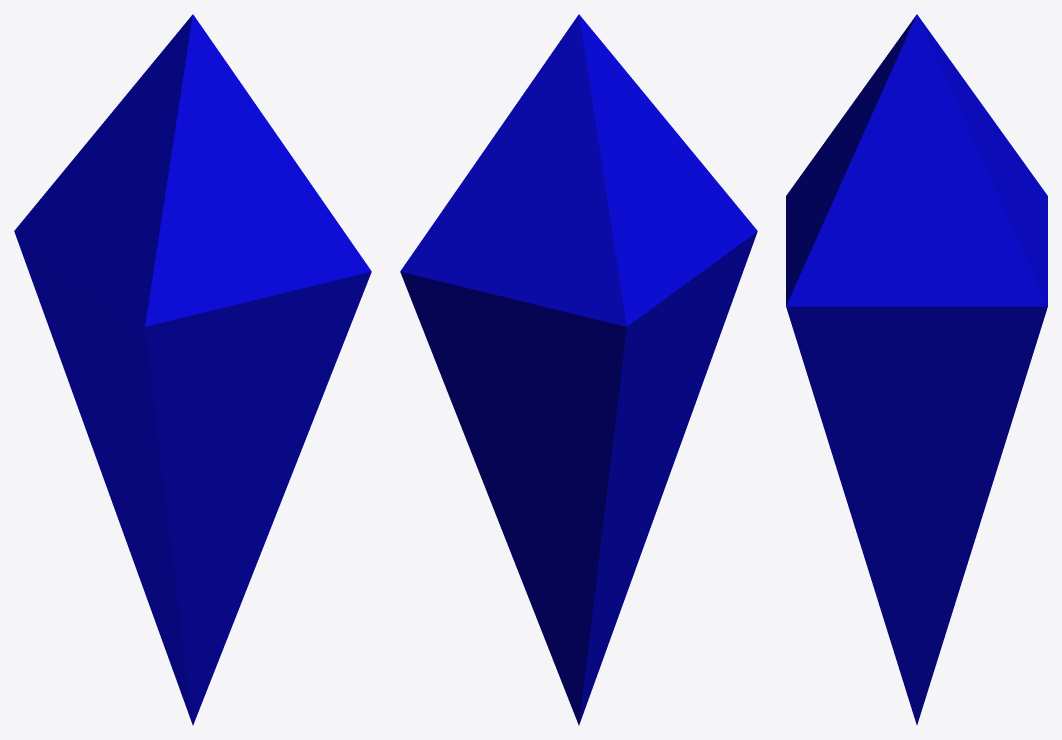
File: BlueMarker.fbx
3 views of the same model, side by side, from view 1: azimuth 30°, elevation 25°; view 2: azimuth 150°, elevation 25°; view 3: azimuth 270°, elevation 25° (orthographic).
Parts seen in each view (by area): view 1: PodiumMarker; view 2: PodiumMarker; view 3: PodiumMarker.
Part boxes in pixels (left/top/right/bottom): PodiumMarker: left=14, top=14, right=371, bottom=725; PodiumMarker: left=400, top=14, right=757, bottom=725; PodiumMarker: left=786, top=14, right=1047, bottom=724.
Size of the model in its own units: 50 by 150 by 50.
